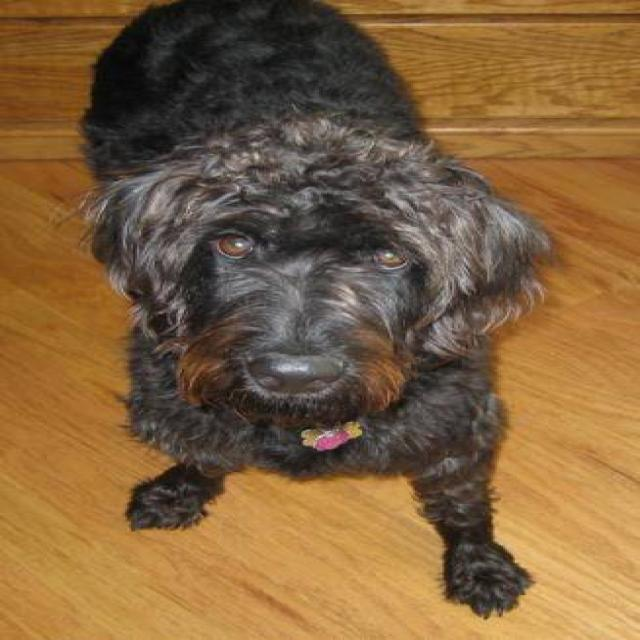dog: (66, 0, 559, 619)
